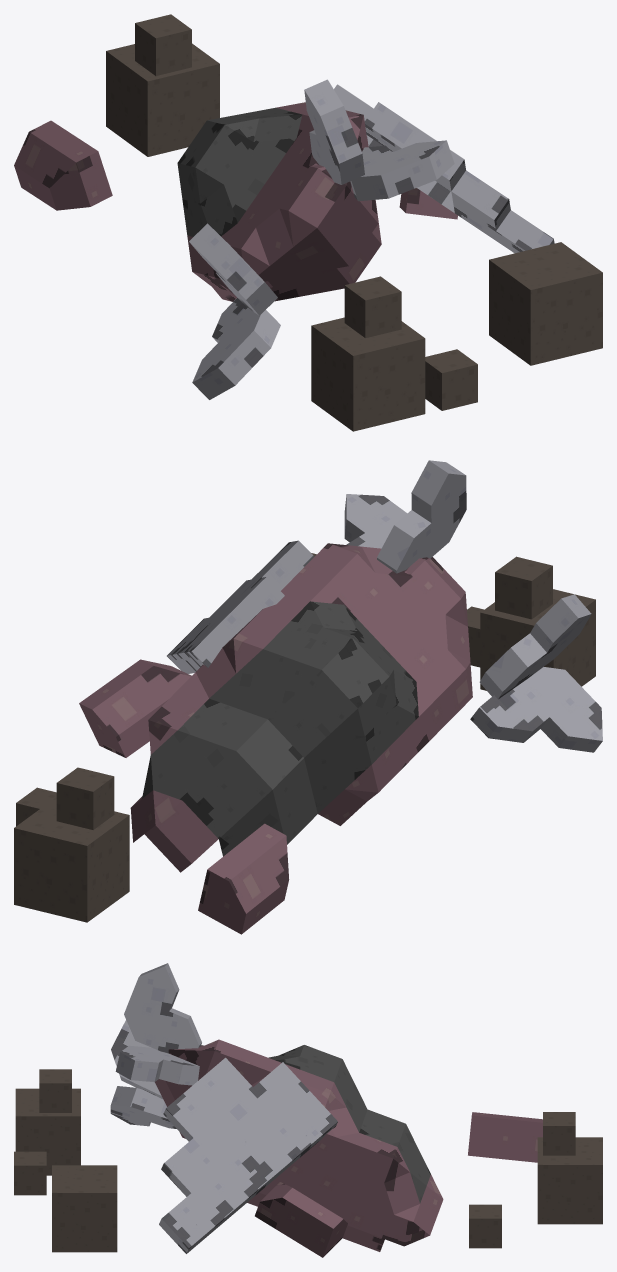
Rendered from C2_Garbage_02-4.FBX.
The picture shows the model from 3 angles, top to bottom: view 1: azimuth 30°, elevation 25°; view 2: azimuth 150°, elevation 25°; view 3: azimuth 270°, elevation 25°; orthographic projection. The views are drawn at different scales.
Visible parts, largest first — view 1: Object001; view 2: Object001; view 3: Object001.
Boxes of the visible parts, x1=… form: Object001: x1=14, y1=14, x2=602, y2=431; Object001: x1=14, y1=460, x2=602, y2=934; Object001: x1=14, y1=963, x2=602, y2=1257.
Size of the model in its own units: 130 by 98.83 by 213.
Materials: 1 (1 with a texture image).
